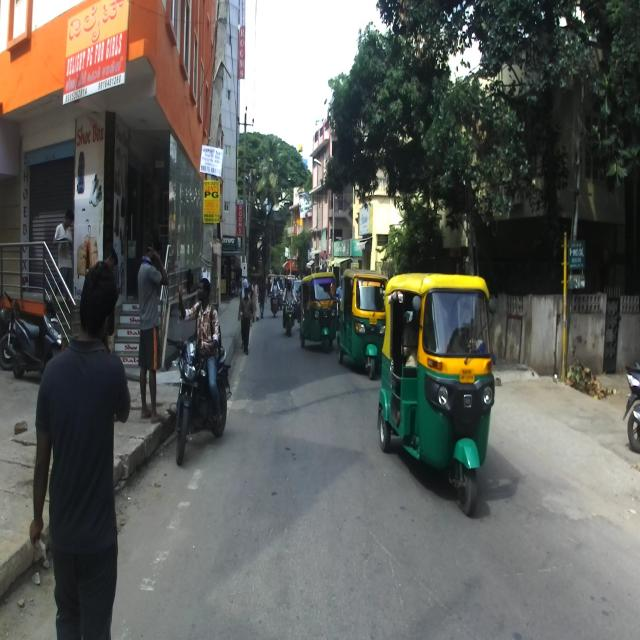autorickshaw: (377, 271, 495, 518), (336, 268, 389, 380), (299, 272, 337, 353), (266, 273, 278, 296), (276, 274, 286, 298), (284, 274, 296, 294)
car: (290, 278, 305, 320)
motorcycle: (166, 337, 232, 466), (0, 290, 19, 373), (281, 293, 297, 337), (295, 288, 307, 331)
scooter: (9, 296, 64, 379)
